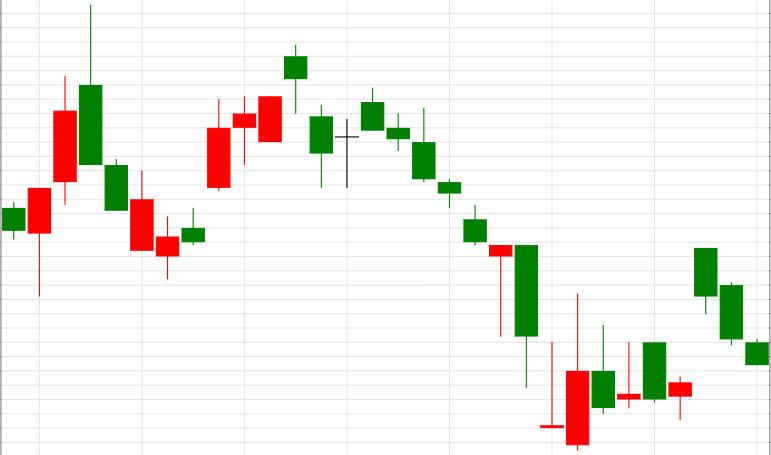evening_star_fall: (156, 44, 332, 279)
